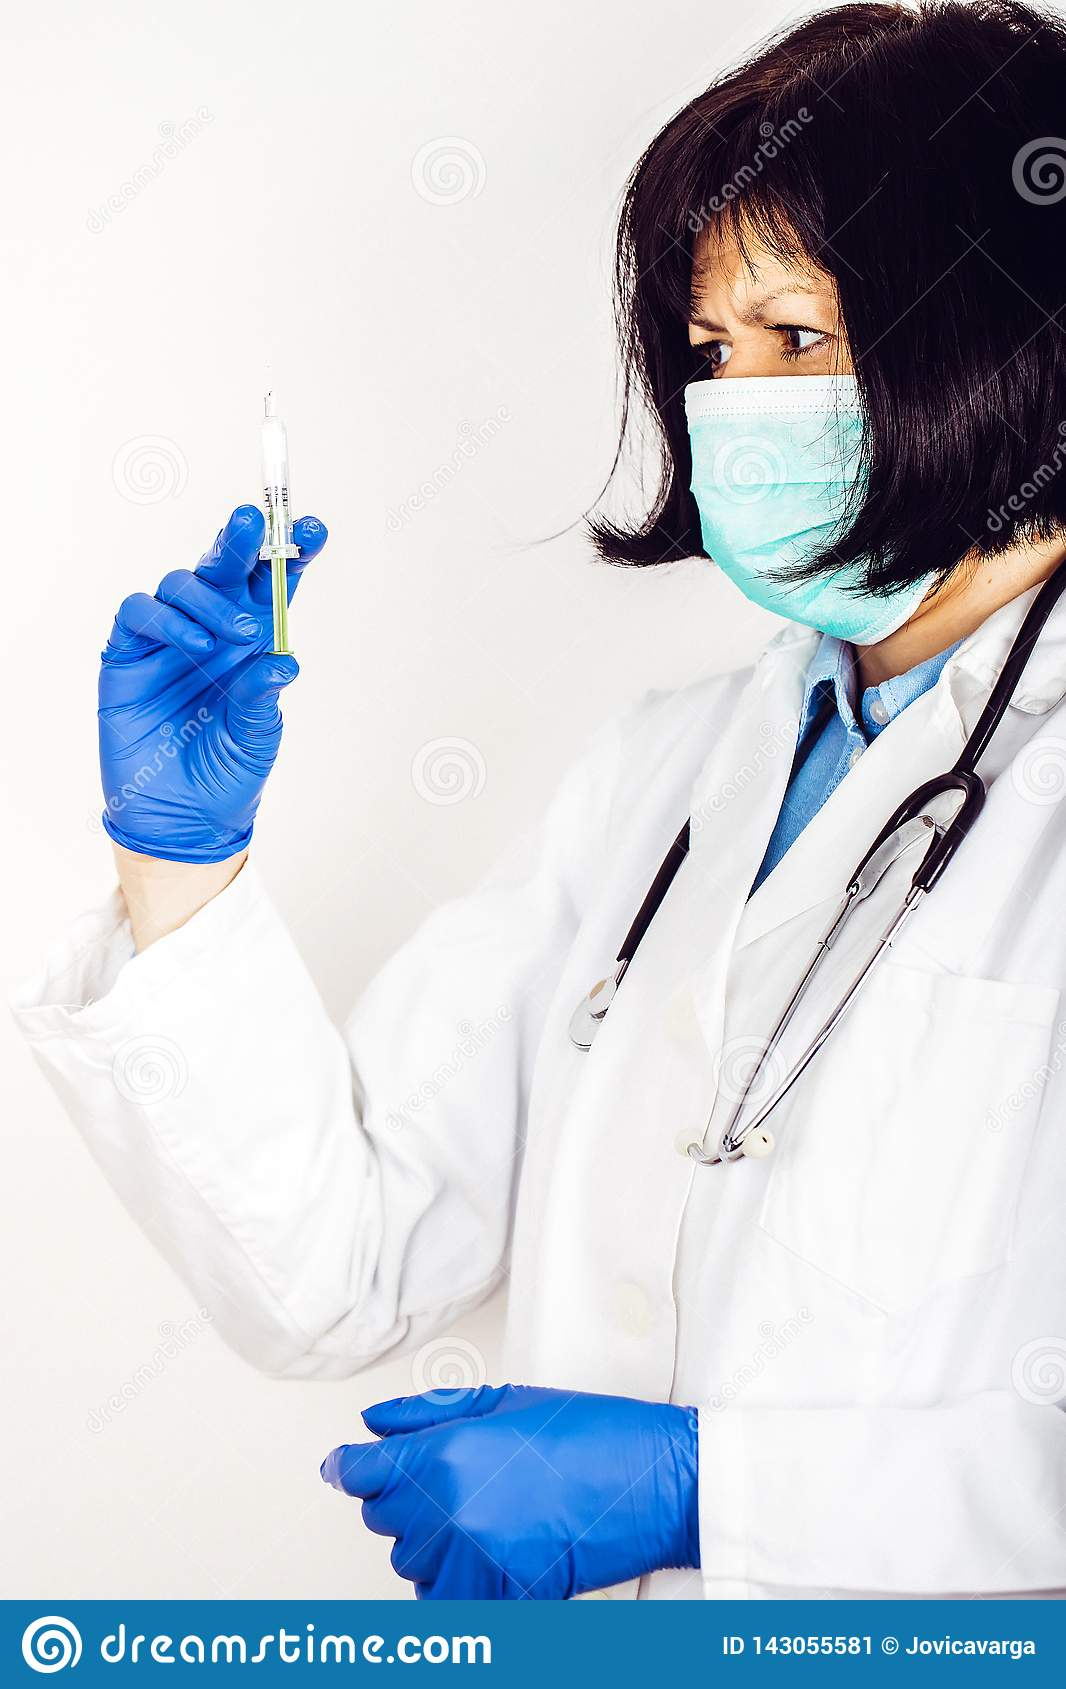mask: (679, 378, 954, 653)
